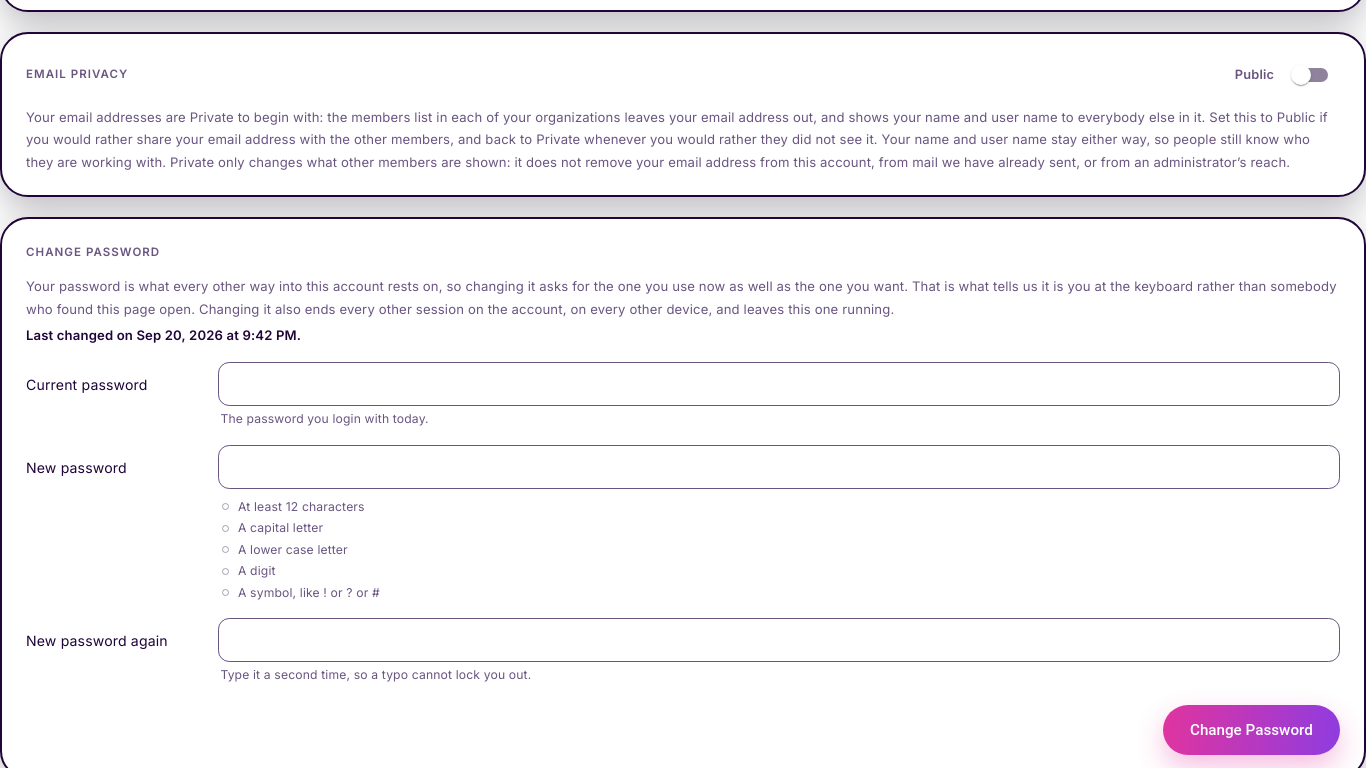
Test: the change-password card › counts one session in the singular
(page scrolled)
Type "letmein" into the password field labelled "Current password" at (779, 384), box [218,362,1340,406]
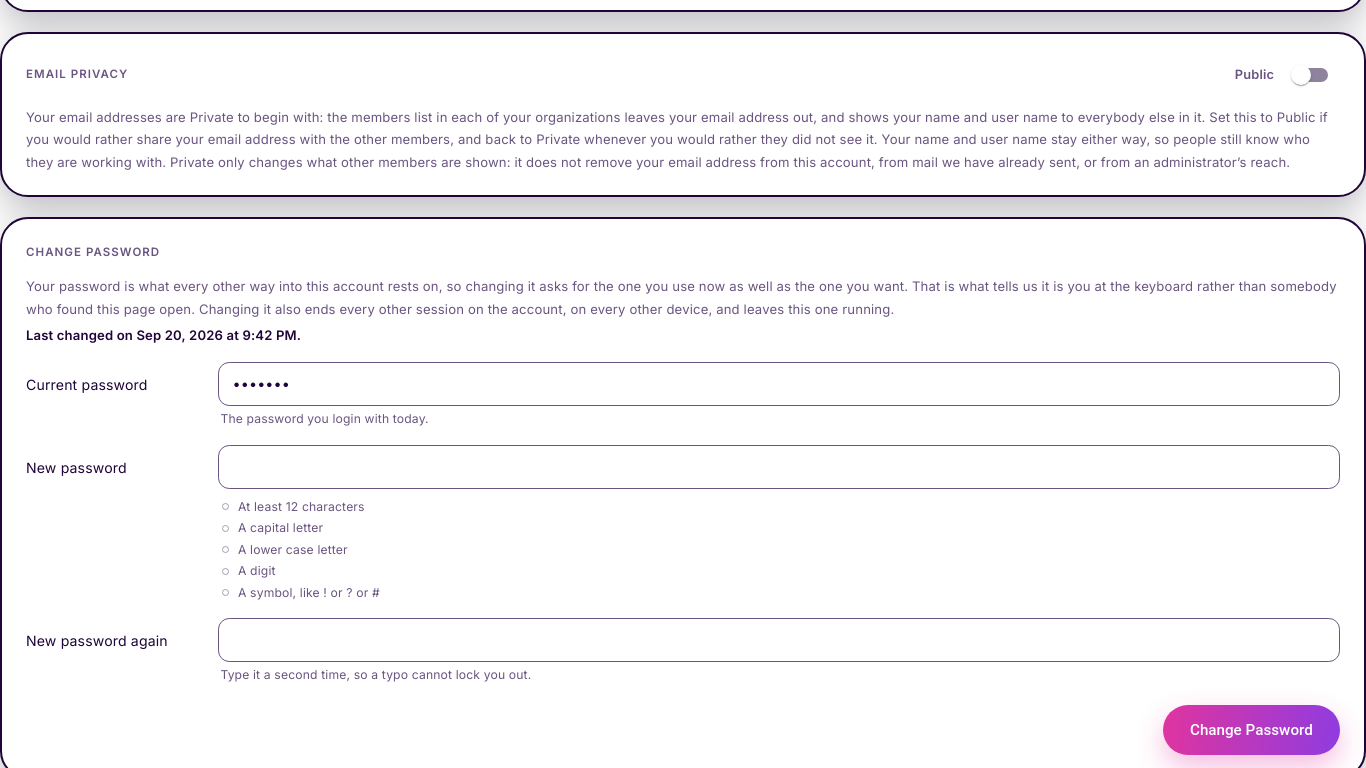
Type "Trombone-42-Fig" into the password field labelled "New password" at (779, 467), box [218,445,1340,489]
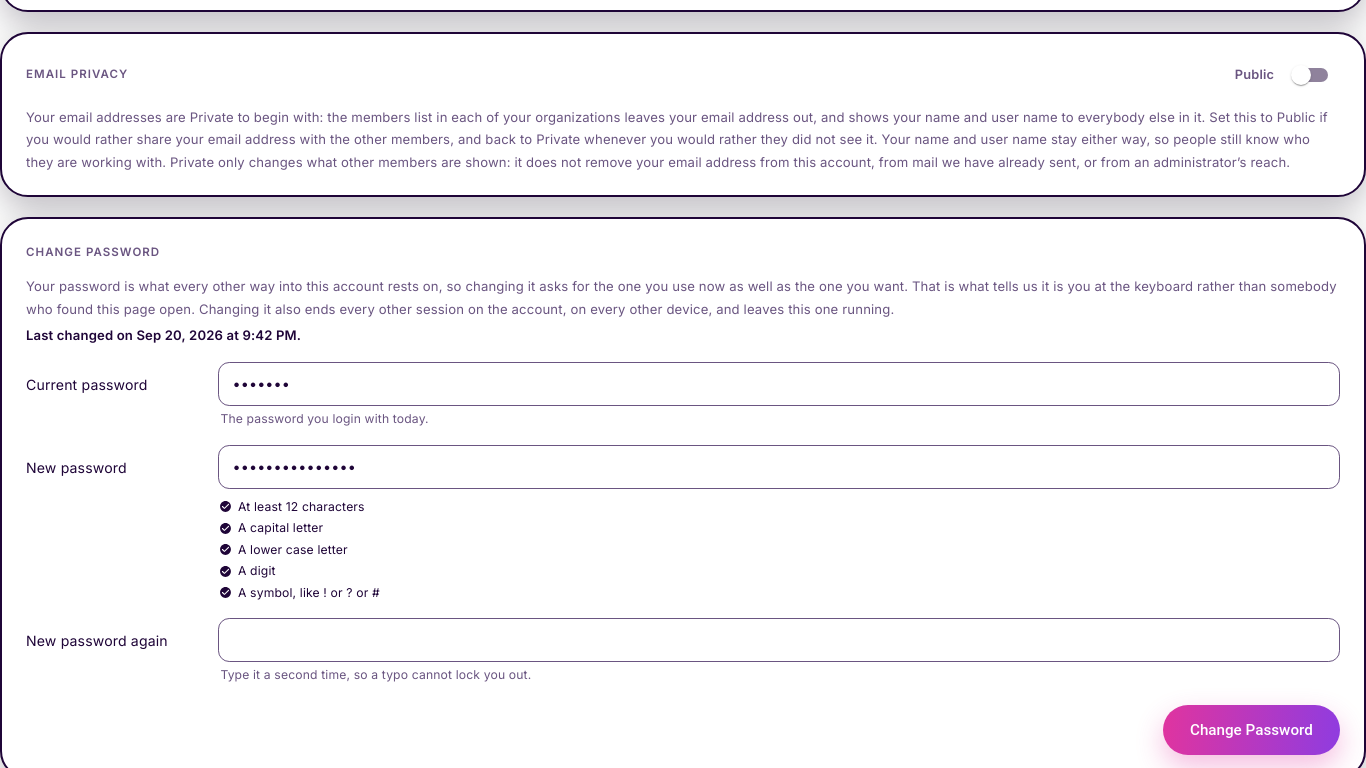
Type "Trombone-42-Fig" into the password field labelled "New password again" at (779, 640), box [218,618,1340,662]
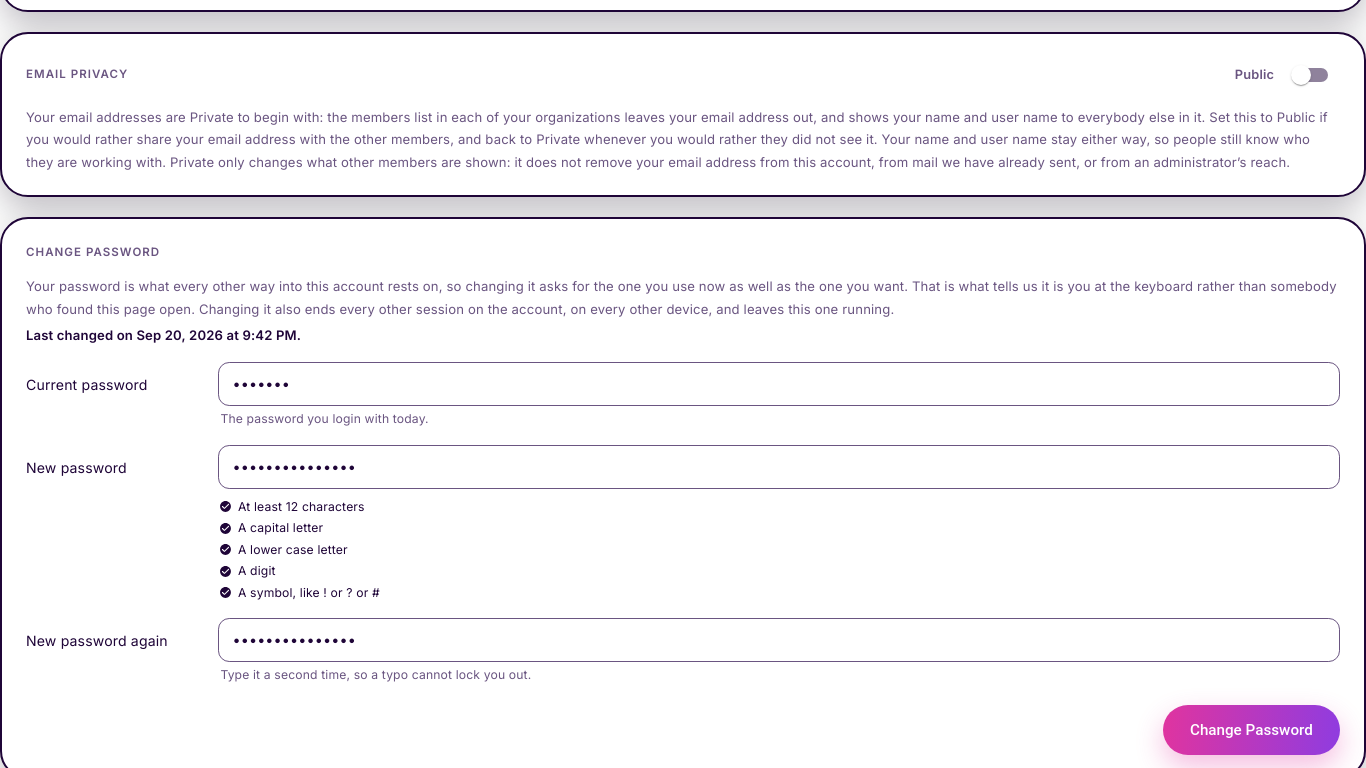
Click the button "Change Password" at (1251, 730), box [1163,705,1340,755]
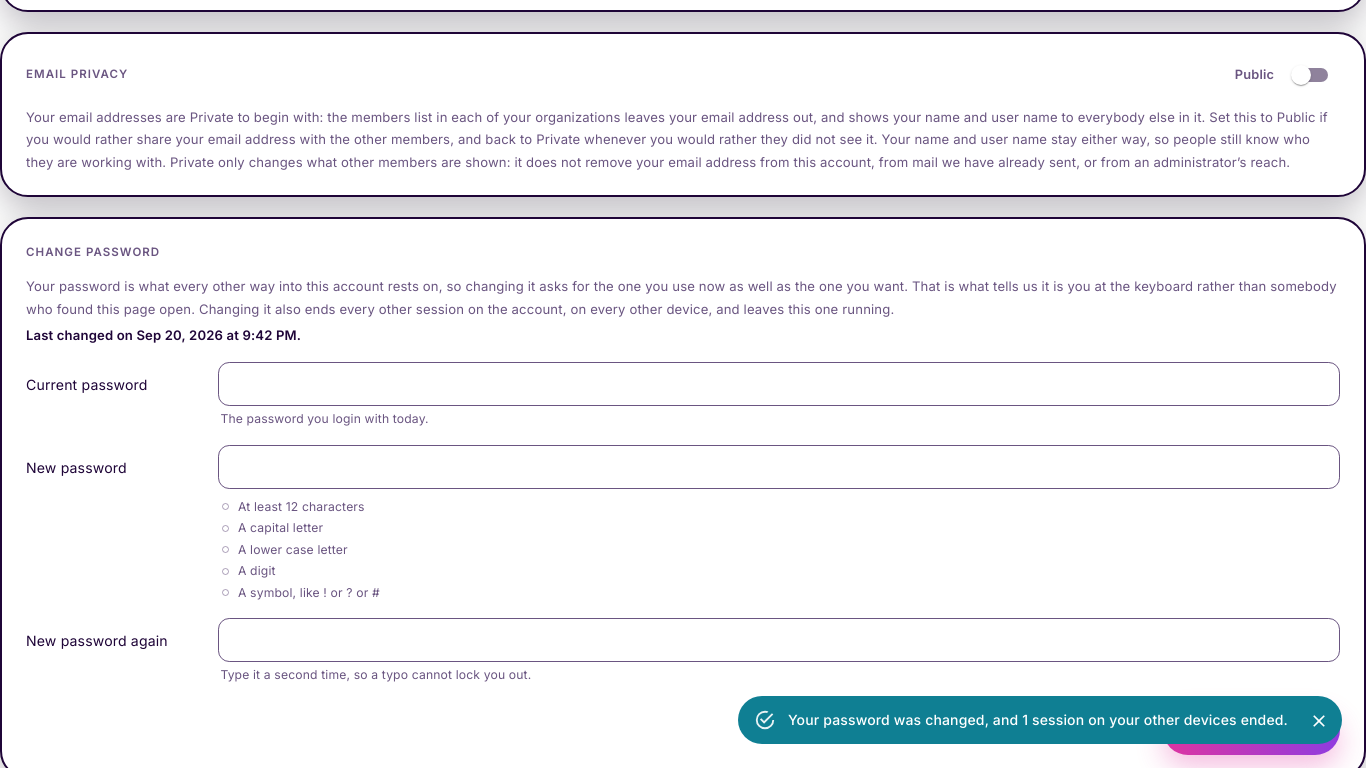
Result: the text "Your password was changed, and 1 session on your other devices ended." is shown at [788,711,1288,728]
